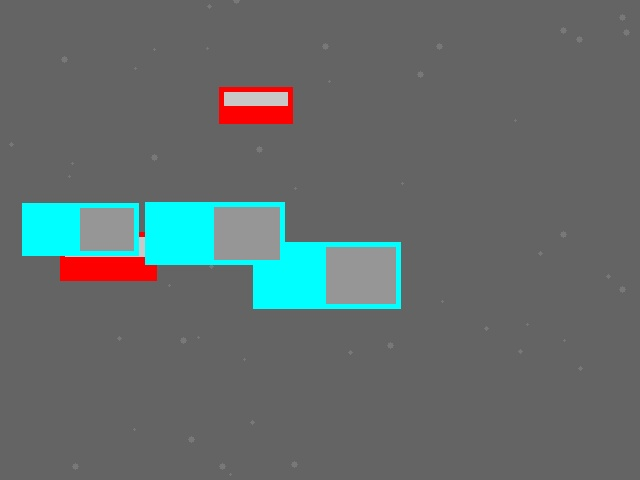car: (60, 232, 156, 280), (219, 87, 292, 123)
truck: (253, 242, 400, 308), (145, 202, 284, 264), (22, 203, 138, 255)
